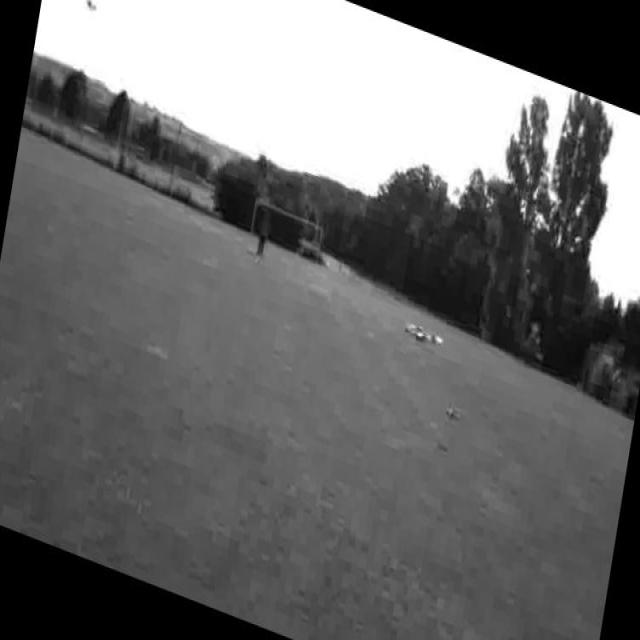drone: (397, 306, 456, 367)
